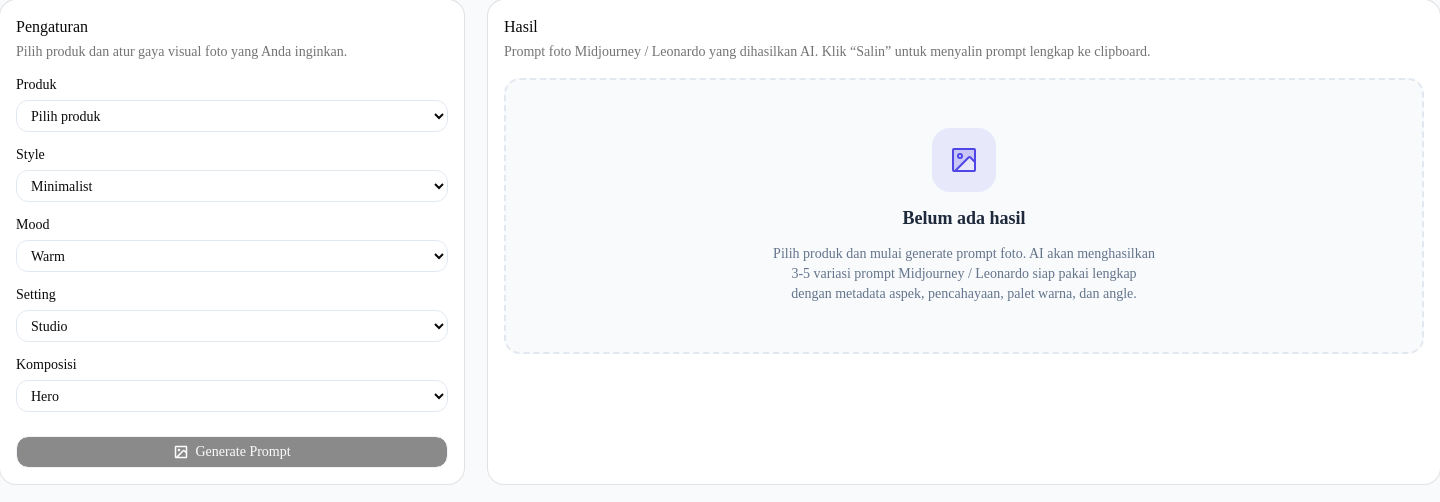
Test: PhotoGenerator › shows loading state in the result panel while generatePhotoPrompts is in flight
The width and height of the screenshot is (1440, 502).
Select "Sample Product A" in the dropdown labelled "Produk" at (232, 116), box x1=16 y1=100 x2=448 y2=132
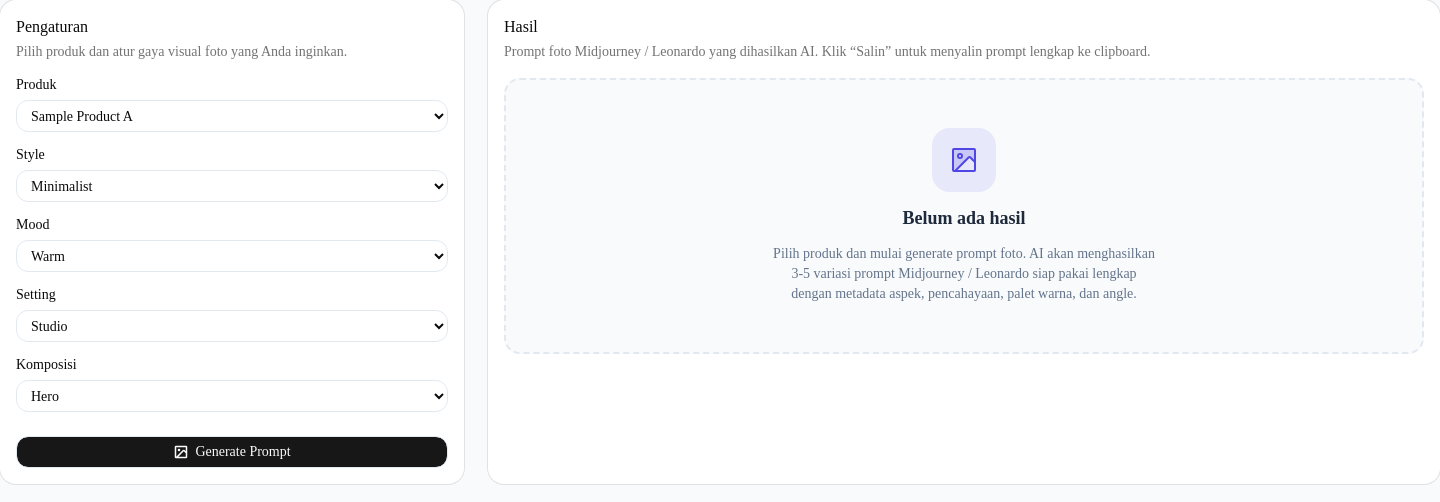
Click the button "Generate Prompt".
click(232, 452)  # box x1=16 y1=436 x2=448 y2=468
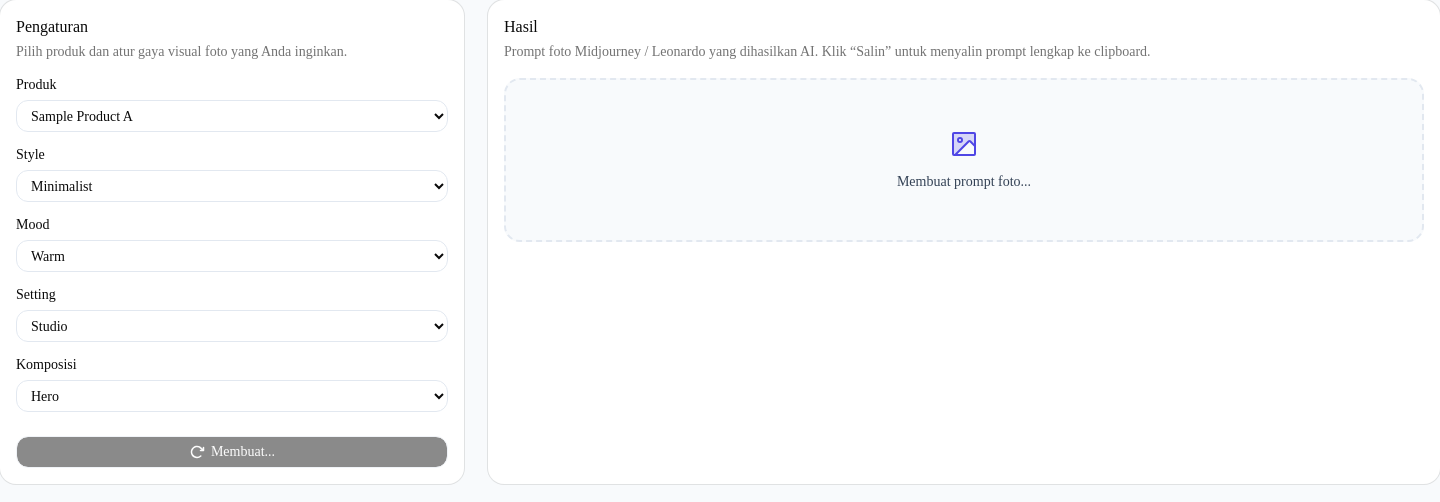
expect the element with test id "photo-loading" is shown: met, box x1=504 y1=78 x2=1424 y2=242
expect the text "Membuat prompt foto..." is shown: met, box x1=897 y1=172 x2=1031 y2=192
